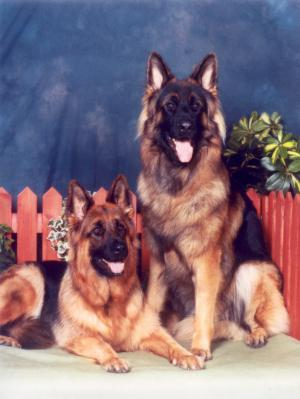German_shepherd: (139, 53, 292, 360), (0, 173, 206, 375)
